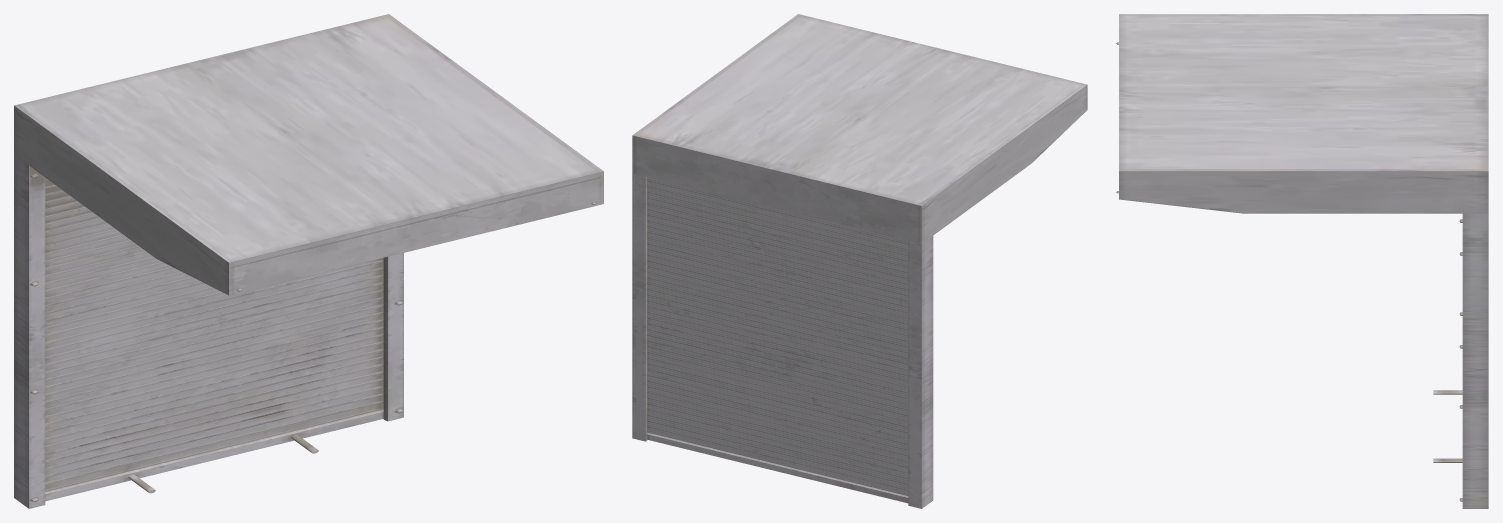
The model's file is door.glb.
3 renders of one model, left to right at view 1: azimuth 30°, elevation 25°; view 2: azimuth 150°, elevation 25°; view 3: azimuth 270°, elevation 25°, orthographic. The views are drawn at different scales.
Visible parts, largest first — view 1: rollershutter_door; view 2: rollershutter_door; view 3: rollershutter_door.
Part boxes in pixels (<box>): rollershutter_door: <box>14,14,603,508</box>; rollershutter_door: <box>632,14,1087,508</box>; rollershutter_door: <box>1116,14,1488,508</box>.
Size of the model in its own units: 1 by 1 by 0.9997.
1 material, 1 textured.
